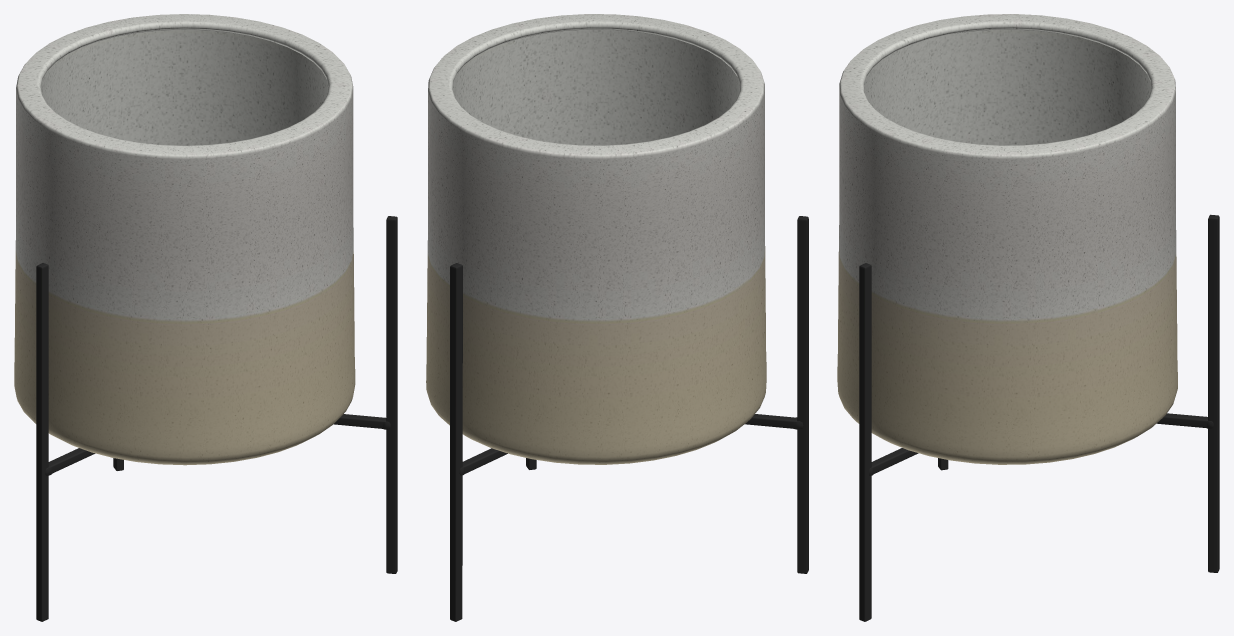
File: planter_B07CF7B5S2.glb
The picture shows the model from 3 angles, left to right: view 1: azimuth 30°, elevation 25°; view 2: azimuth 150°, elevation 25°; view 3: azimuth 270°, elevation 25°; orthographic projection.
Visible parts, largest first — view 1: RootNode; view 2: RootNode; view 3: RootNode.
Part boxes in pixels (x1,y1,x2,y2): RootNode: (14,14,397,621); RootNode: (426,14,808,621); RootNode: (837,14,1219,621).
Size of the model in its own units: 0.2634 by 0.3616 by 0.2667.
Materials: 1 (1 with a texture image).
